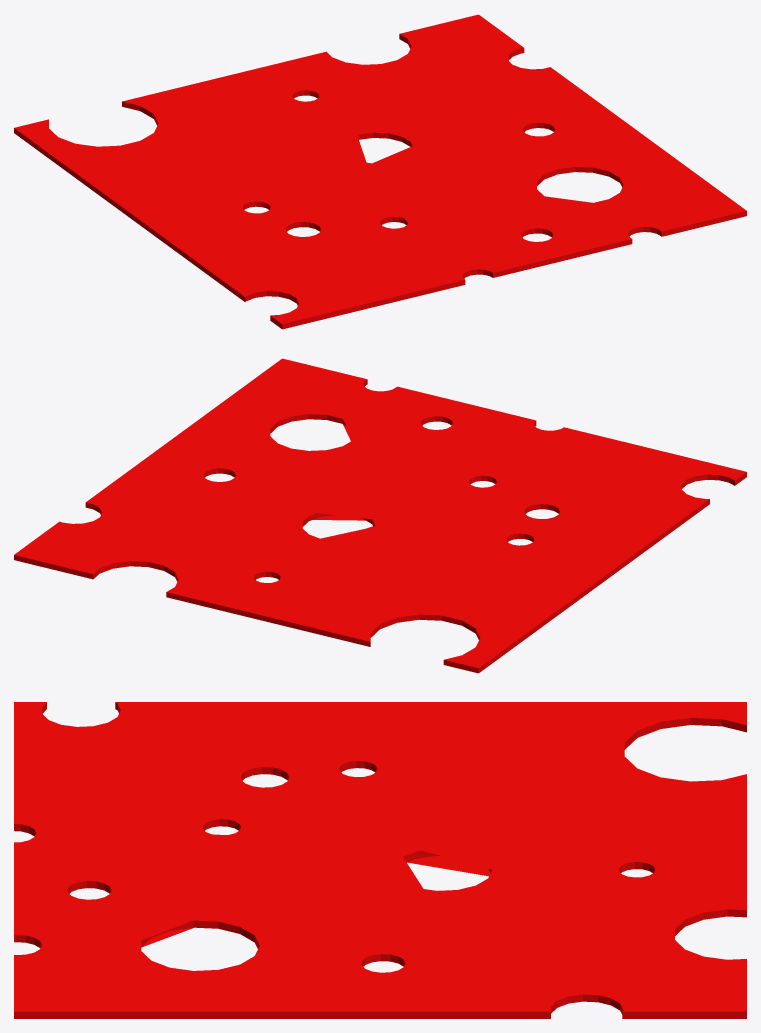
The model's file is tranche-fromage.fbx.
The picture shows the model from 3 angles, top to bottom: view 1: azimuth 30°, elevation 25°; view 2: azimuth 150°, elevation 25°; view 3: azimuth 270°, elevation 25°; orthographic projection. The views are drawn at different scales.
Parts seen in each view (by area): view 1: tranche-fromage; view 2: tranche-fromage; view 3: tranche-fromage.
Boxes of the visible parts, x1=… form: tranche-fromage: x1=14, y1=14, x2=746, y2=329; tranche-fromage: x1=14, y1=358, x2=746, y2=673; tranche-fromage: x1=14, y1=702, x2=746, y2=1018.
Size of the model in its own units: 597 by 6.42 by 597.
